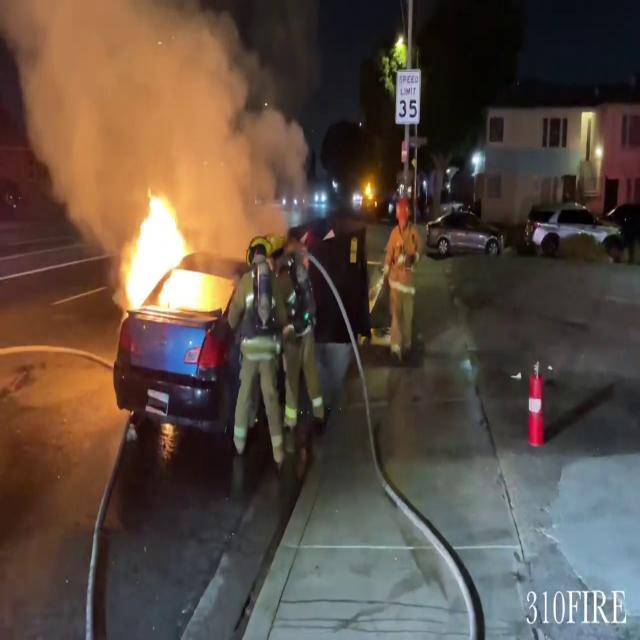Fire: (109, 185, 221, 318)
Smoke: (0, 0, 305, 217)
